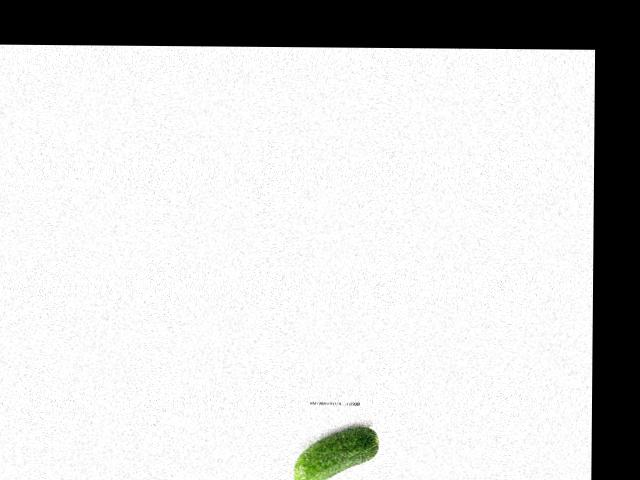cucumber: (294, 425, 379, 480)
